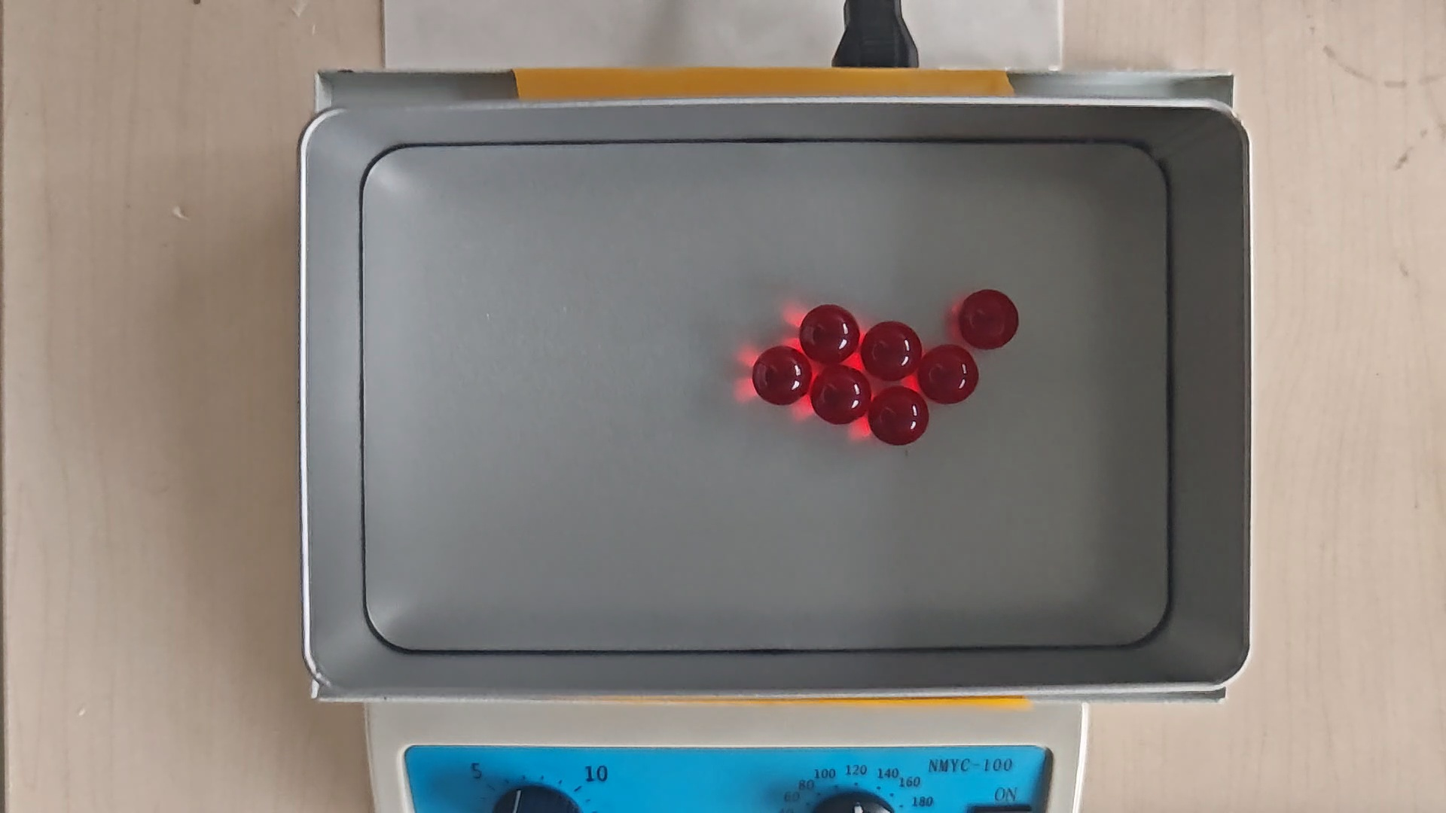ball: (860, 321, 921, 381), (921, 343, 980, 404), (752, 346, 811, 406), (800, 303, 858, 364), (813, 365, 869, 428), (960, 290, 1020, 348), (870, 385, 927, 445)
container: (358, 142, 1171, 650)
